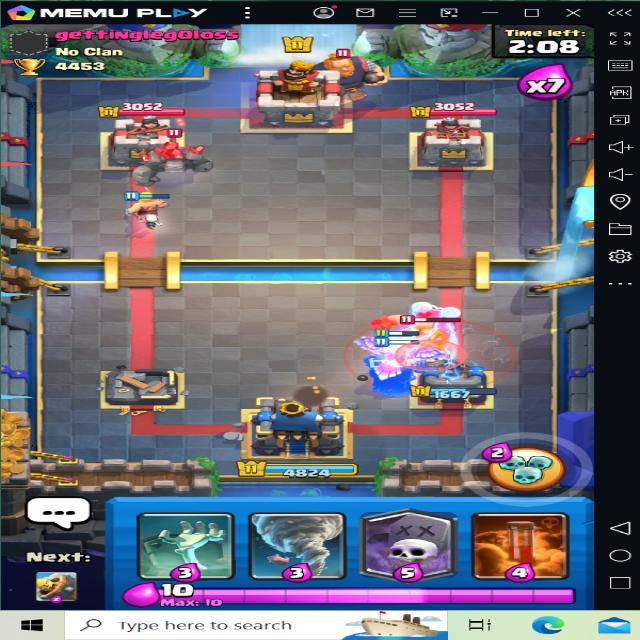electro-giant: (370, 304, 487, 370)
golem: (132, 127, 230, 186)
royal-giant: (291, 46, 393, 100)
